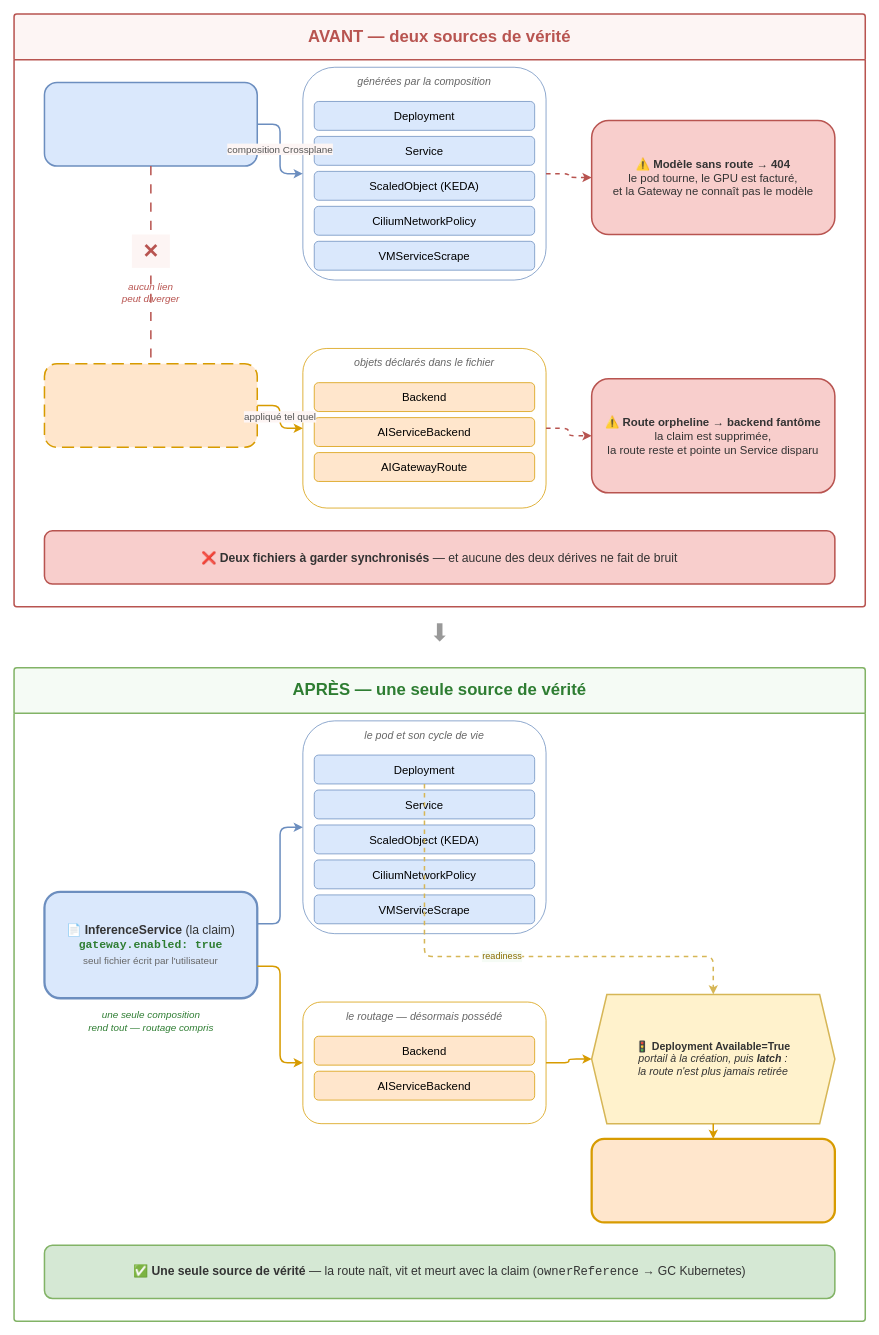
Some shapes in this 879 by 1335 pixel diagram are drawn without their labels. The centre of each missing label's shape, as x and y in pixels:
"✍️ route.yaml — écrit à la main ai-gateway-routes/route.yaml" goes at pixel 150 405.
"📄 InferenceService (la claim) apps/base/ai/llm/qwen-coder.yaml" goes at pixel 150 123.
"🚪 AIGatewayRoute publiée seulement quand le pod peut répondre" goes at pixel 713 1180.
